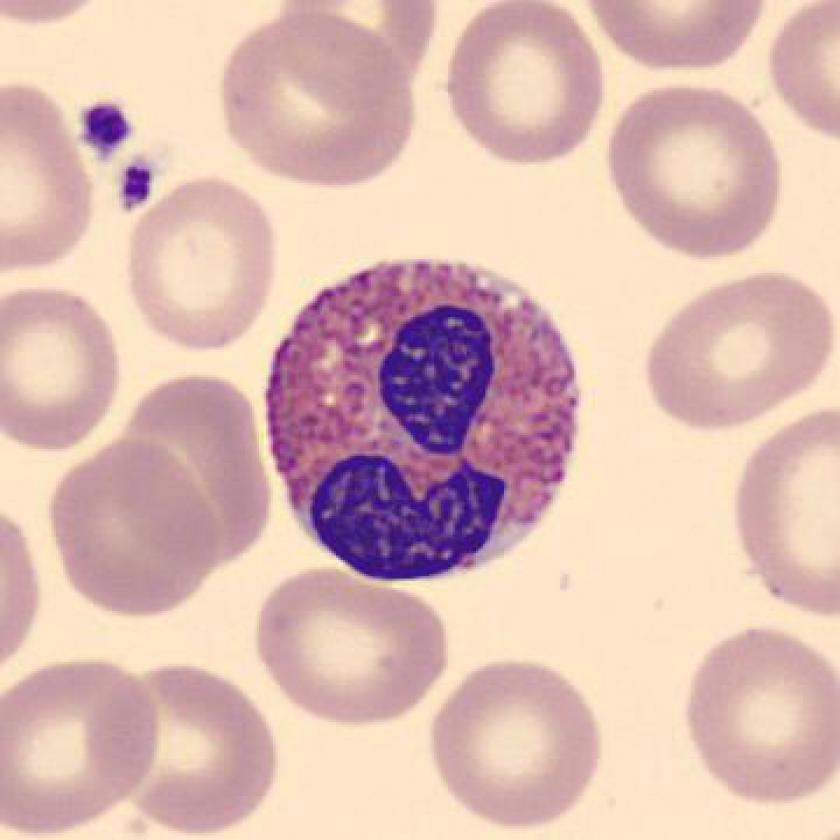eosinophil: (255, 251, 601, 598)
